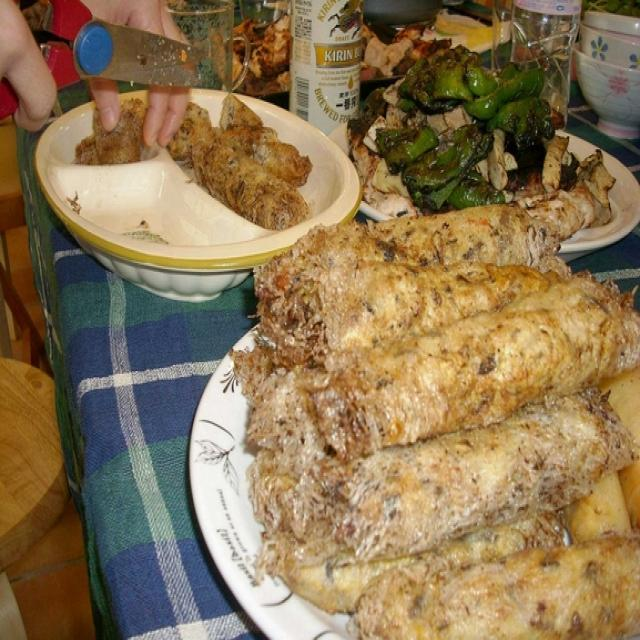炸货点心: (212, 210, 619, 631)
